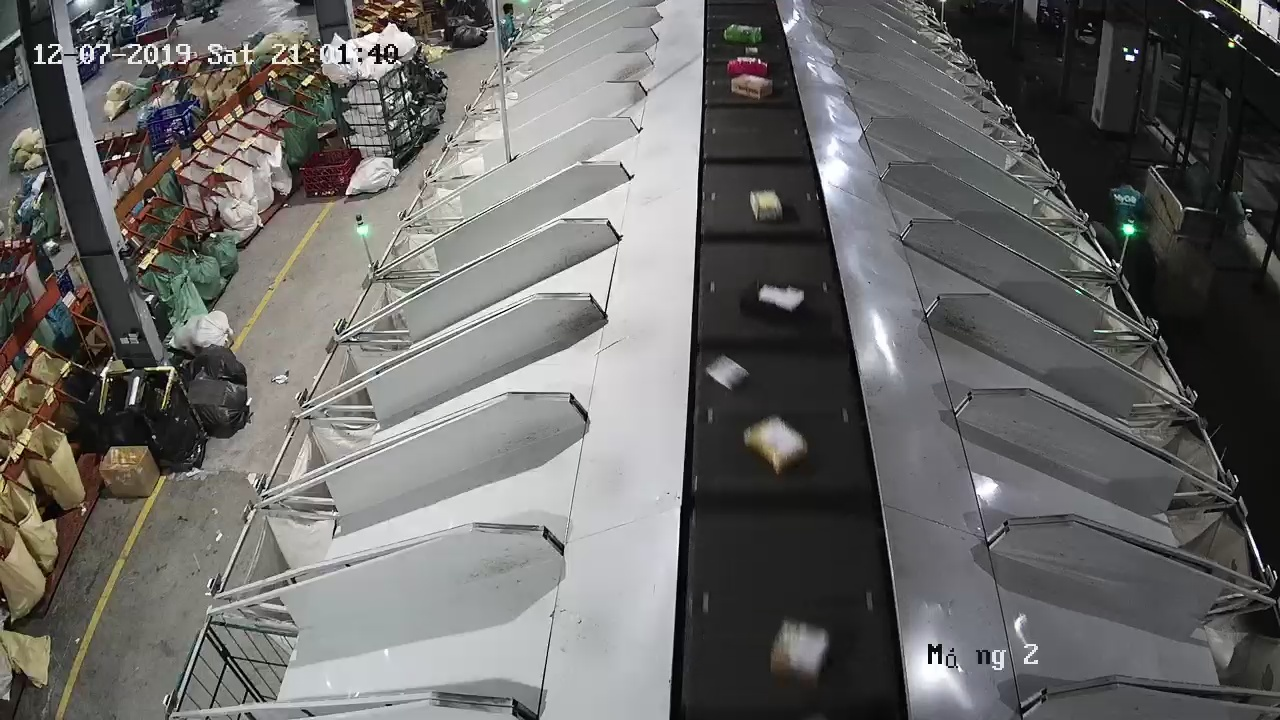parcel: (704, 352, 751, 392)
